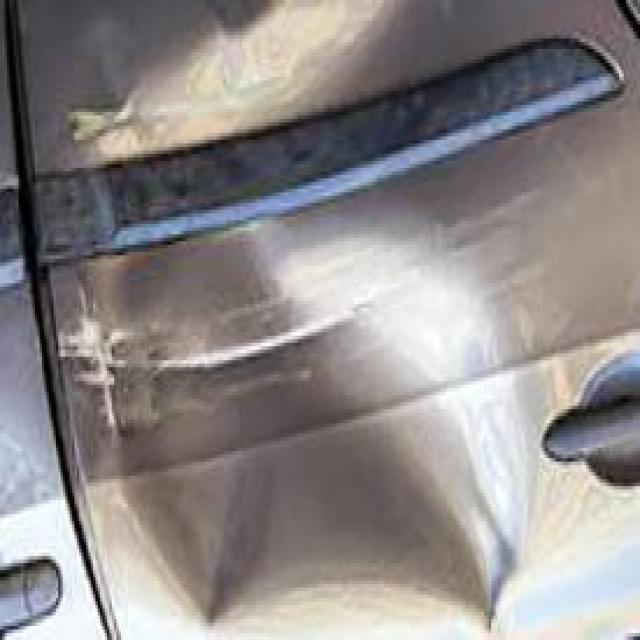dent: (54, 231, 556, 640)
